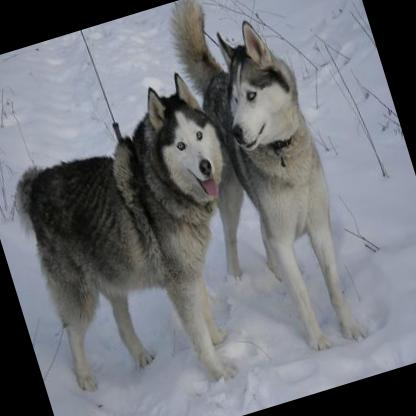Siberian_husky: (0, 61, 289, 416), (144, 0, 375, 372)
